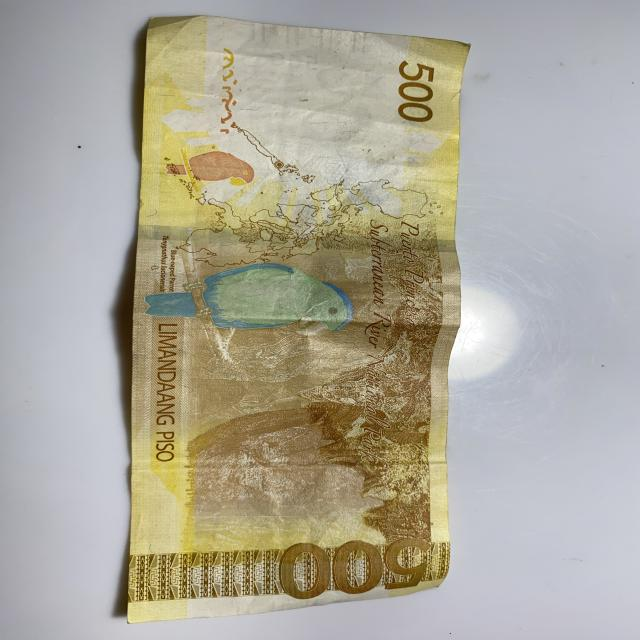500_big_parrot: (145, 263, 357, 344)
500_parrot_watermark: (170, 148, 258, 192)
value_watermark: (272, 53, 326, 73)
